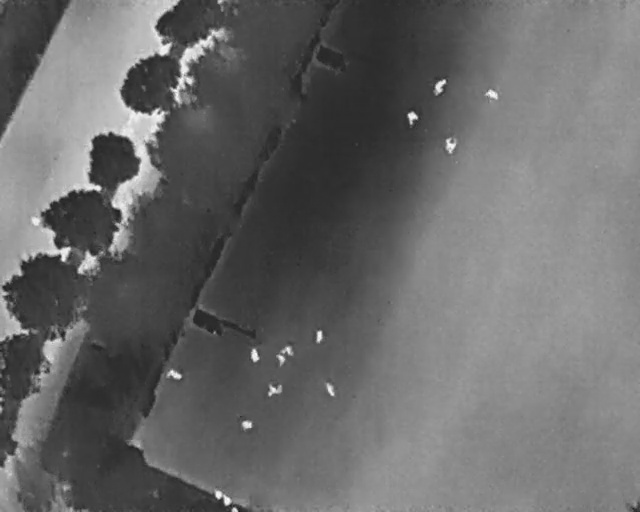Person: (429, 74, 449, 99), (442, 134, 460, 156), (482, 85, 501, 103), (321, 378, 337, 399), (163, 366, 184, 382), (246, 346, 262, 365), (265, 382, 284, 397), (406, 109, 419, 126), (312, 329, 324, 346), (239, 418, 254, 431), (281, 345, 296, 357), (273, 353, 285, 367)
